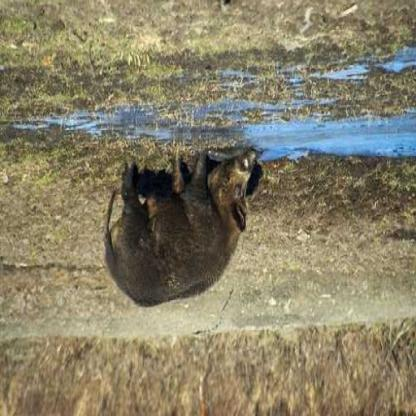boar: (92, 80, 323, 343)
